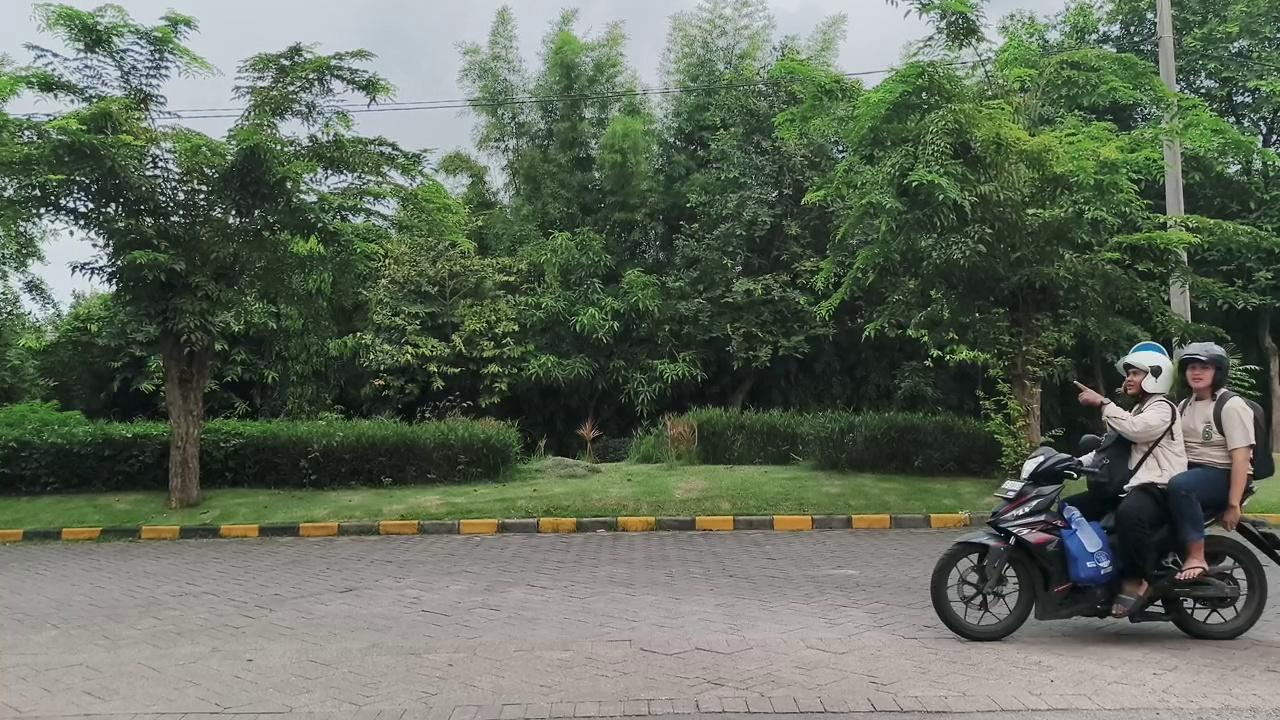Helmet: (1063, 342, 1186, 617), (1168, 342, 1255, 581)
Motor: (930, 446, 1117, 640)
